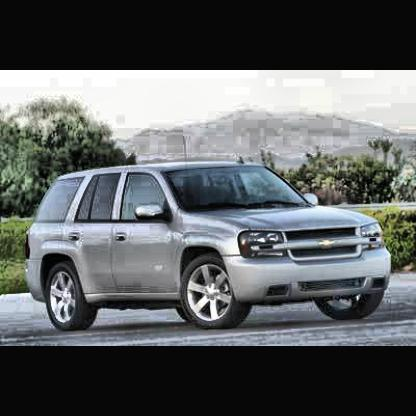Chevrolet TrailBlazer SS 2009: (23, 158, 395, 334)
